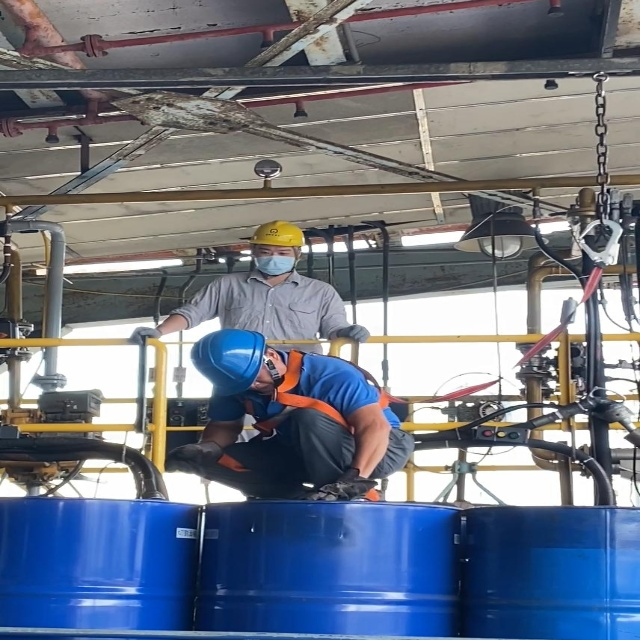Arnes_seguridad: (214, 352, 401, 508)
